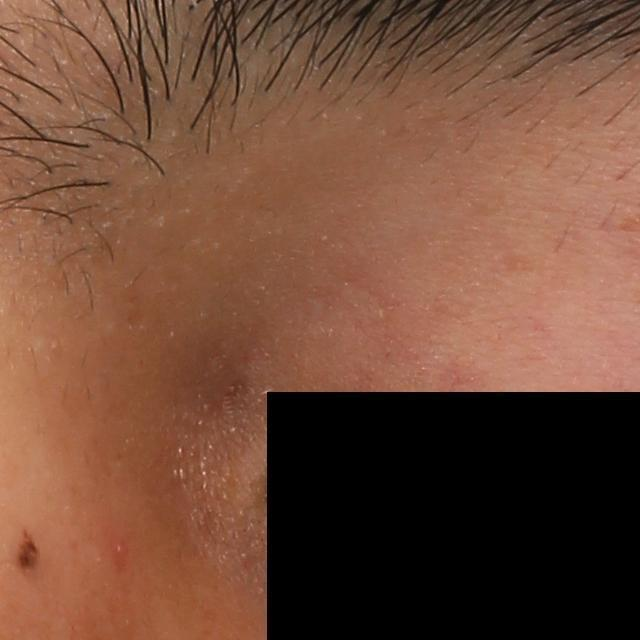nevus: (11, 522, 41, 579)
